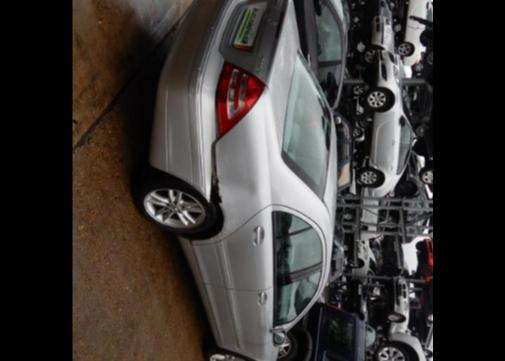Broken part: (207, 111, 221, 206)
Dent: (216, 173, 252, 204)
Paint chip: (216, 175, 223, 204)
